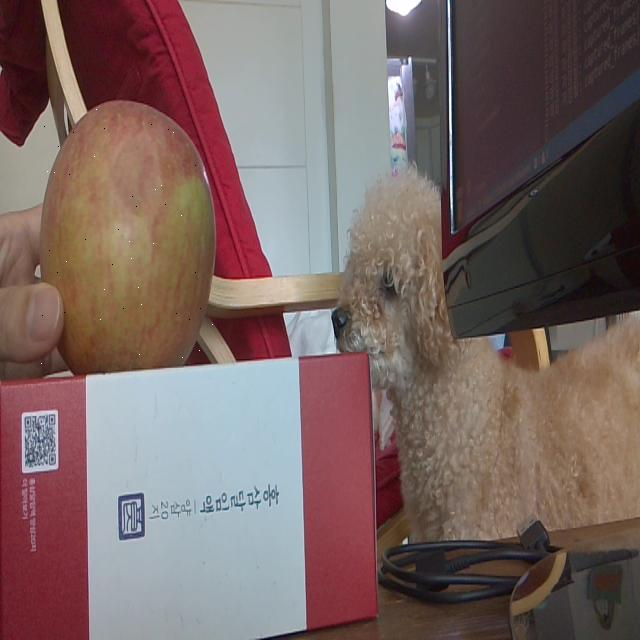apple: (39, 97, 214, 364)
